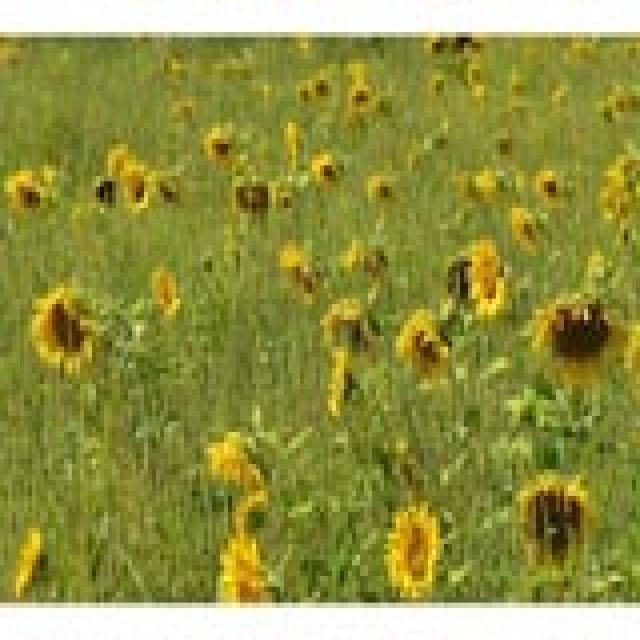sunflower: (532, 286, 634, 408), (508, 472, 608, 594), (377, 487, 457, 602), (388, 301, 468, 404), (26, 286, 111, 381), (449, 240, 514, 335), (194, 419, 274, 488), (9, 530, 57, 614), (309, 290, 380, 346), (323, 347, 377, 419), (3, 168, 57, 232), (220, 541, 280, 598), (140, 263, 194, 320), (226, 492, 280, 548), (602, 151, 640, 228), (78, 178, 129, 219), (536, 166, 571, 222), (504, 207, 544, 255), (238, 175, 280, 219), (118, 166, 156, 210), (96, 139, 131, 184), (209, 127, 235, 169), (316, 154, 338, 199), (346, 86, 376, 113), (300, 83, 318, 118), (316, 65, 331, 98)
